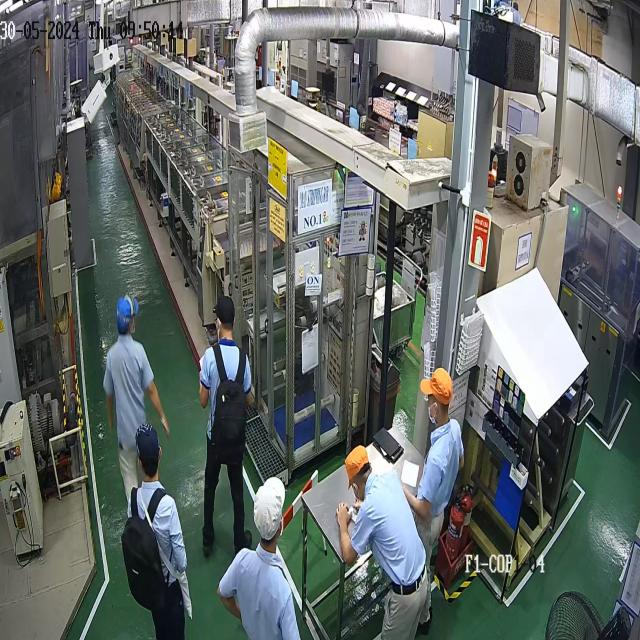Person: (335, 444, 429, 639), (400, 366, 465, 634), (198, 295, 255, 558), (103, 294, 169, 518), (126, 422, 192, 639), (217, 476, 301, 639)
